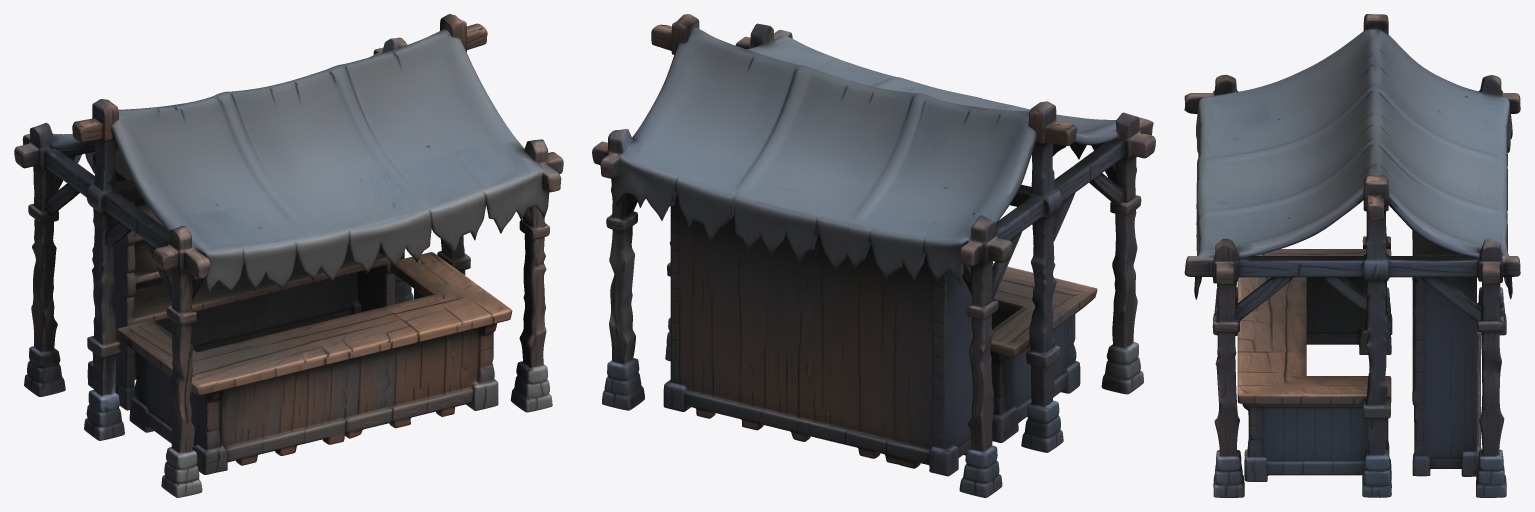
3 views of the same model, side by side, from view 1: azimuth 30°, elevation 25°; view 2: azimuth 150°, elevation 25°; view 3: azimuth 270°, elevation 25° (orthographic). The views are drawn at different scales.
Visible parts, largest first — view 1: node_0; view 2: node_0; view 3: node_0.
Boxes of the visible parts, box(x1,y1,x2,y2) form: node_0: box(14, 14, 563, 497); node_0: box(592, 14, 1155, 497); node_0: box(1184, 14, 1520, 497).
Bounding box in the file's own units: 0.8704 × 0.6799 × 0.6527.
1 material, 1 textured.
